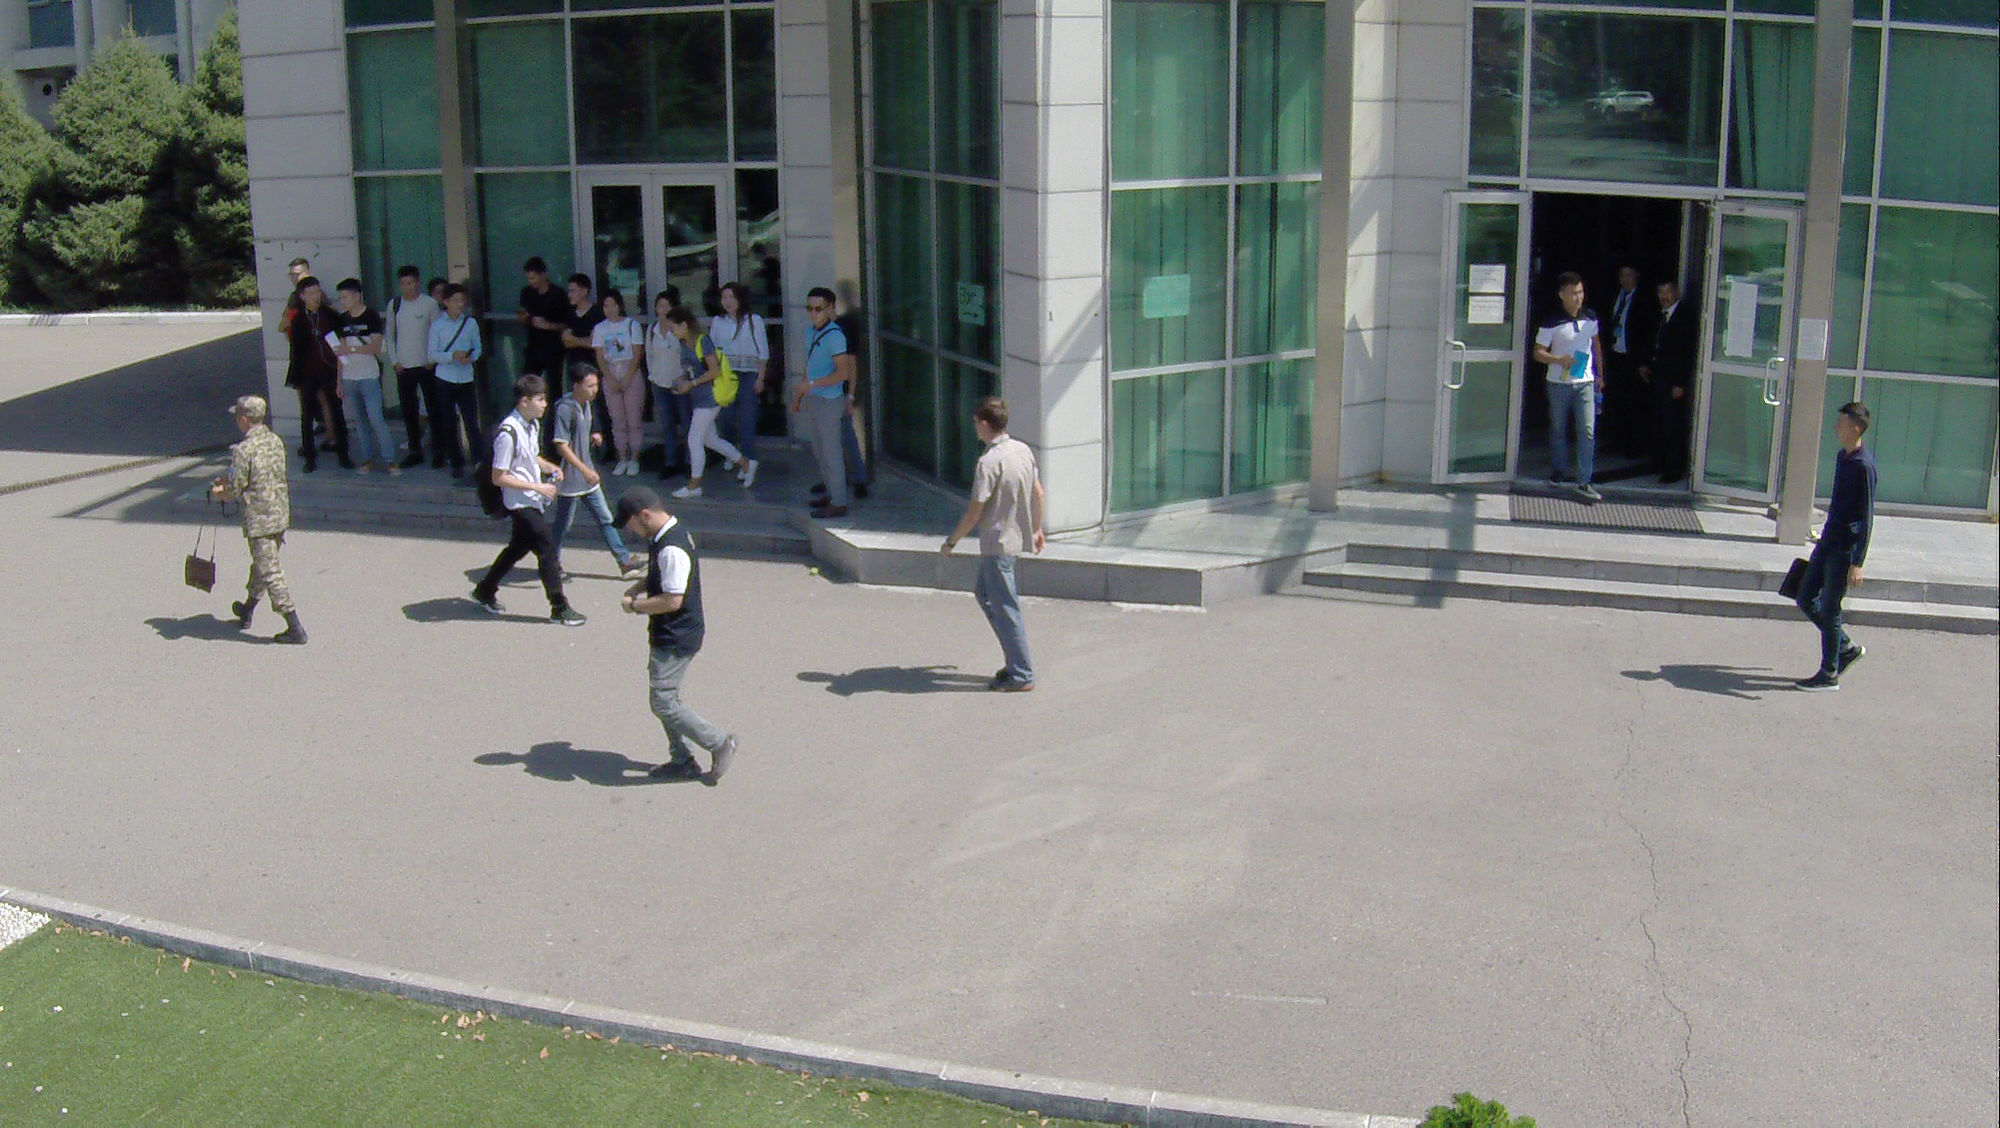person: (599, 472, 737, 803), (941, 385, 1057, 697), (185, 380, 312, 658), (1787, 397, 1876, 699), (474, 376, 572, 628), (653, 299, 755, 497), (1541, 272, 1610, 510), (282, 268, 345, 480), (795, 278, 849, 520), (587, 285, 653, 476), (330, 272, 387, 489), (1641, 268, 1689, 495), (378, 258, 432, 460), (437, 278, 487, 466), (726, 280, 770, 464), (510, 247, 557, 358), (549, 270, 595, 372)
